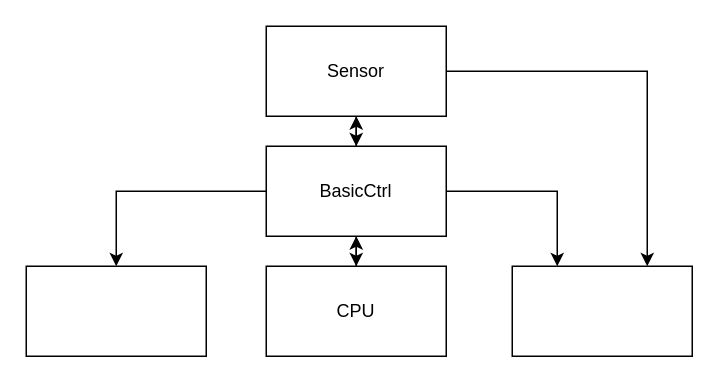
Some shapes in this 719 by 383 pixel diagram are drawn without their labels. The centre of each missing label's shape, as x and y in pixels:
"MCU外设" belongs at point 601,310.
"自定义硬件加速设备" belongs at point 115,310.
